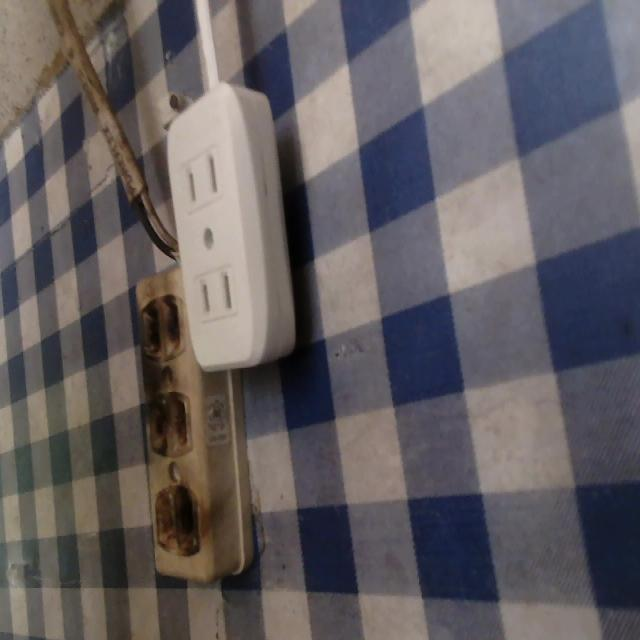-: (152, 479, 196, 557), (143, 389, 190, 459), (139, 291, 183, 357)
